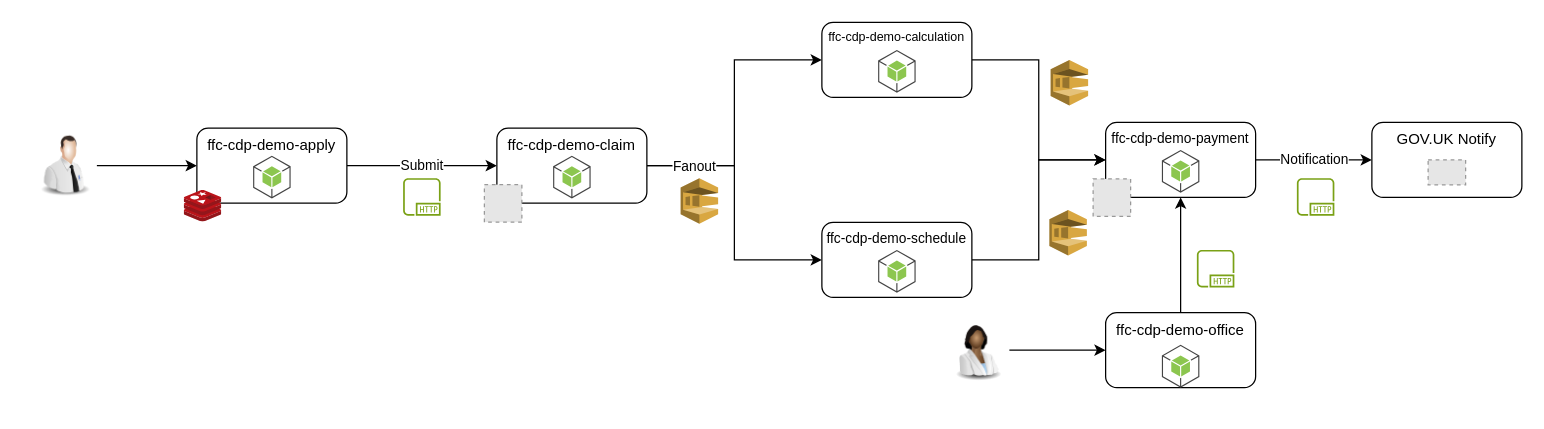
The diagram is 1544 pixels wide and 429 high, and some of its shapes have lost their labels. Grey dashed boxes stand in for pictures. The shapes that lost their labels are listed below. From the top down, each one's centre as x and y in pixels, then its label:
At point 65,165: "External user".
At point 977,349: "Internal user".
